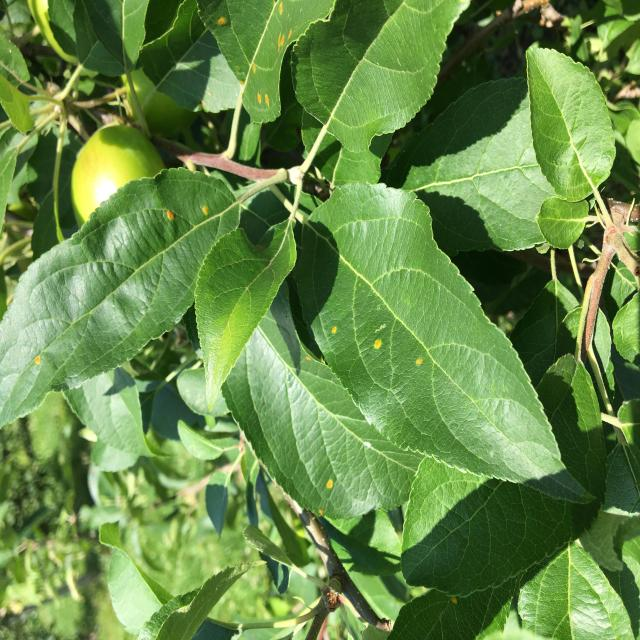rust: (305, 180, 587, 504), (0, 166, 242, 430), (196, 0, 337, 126)
